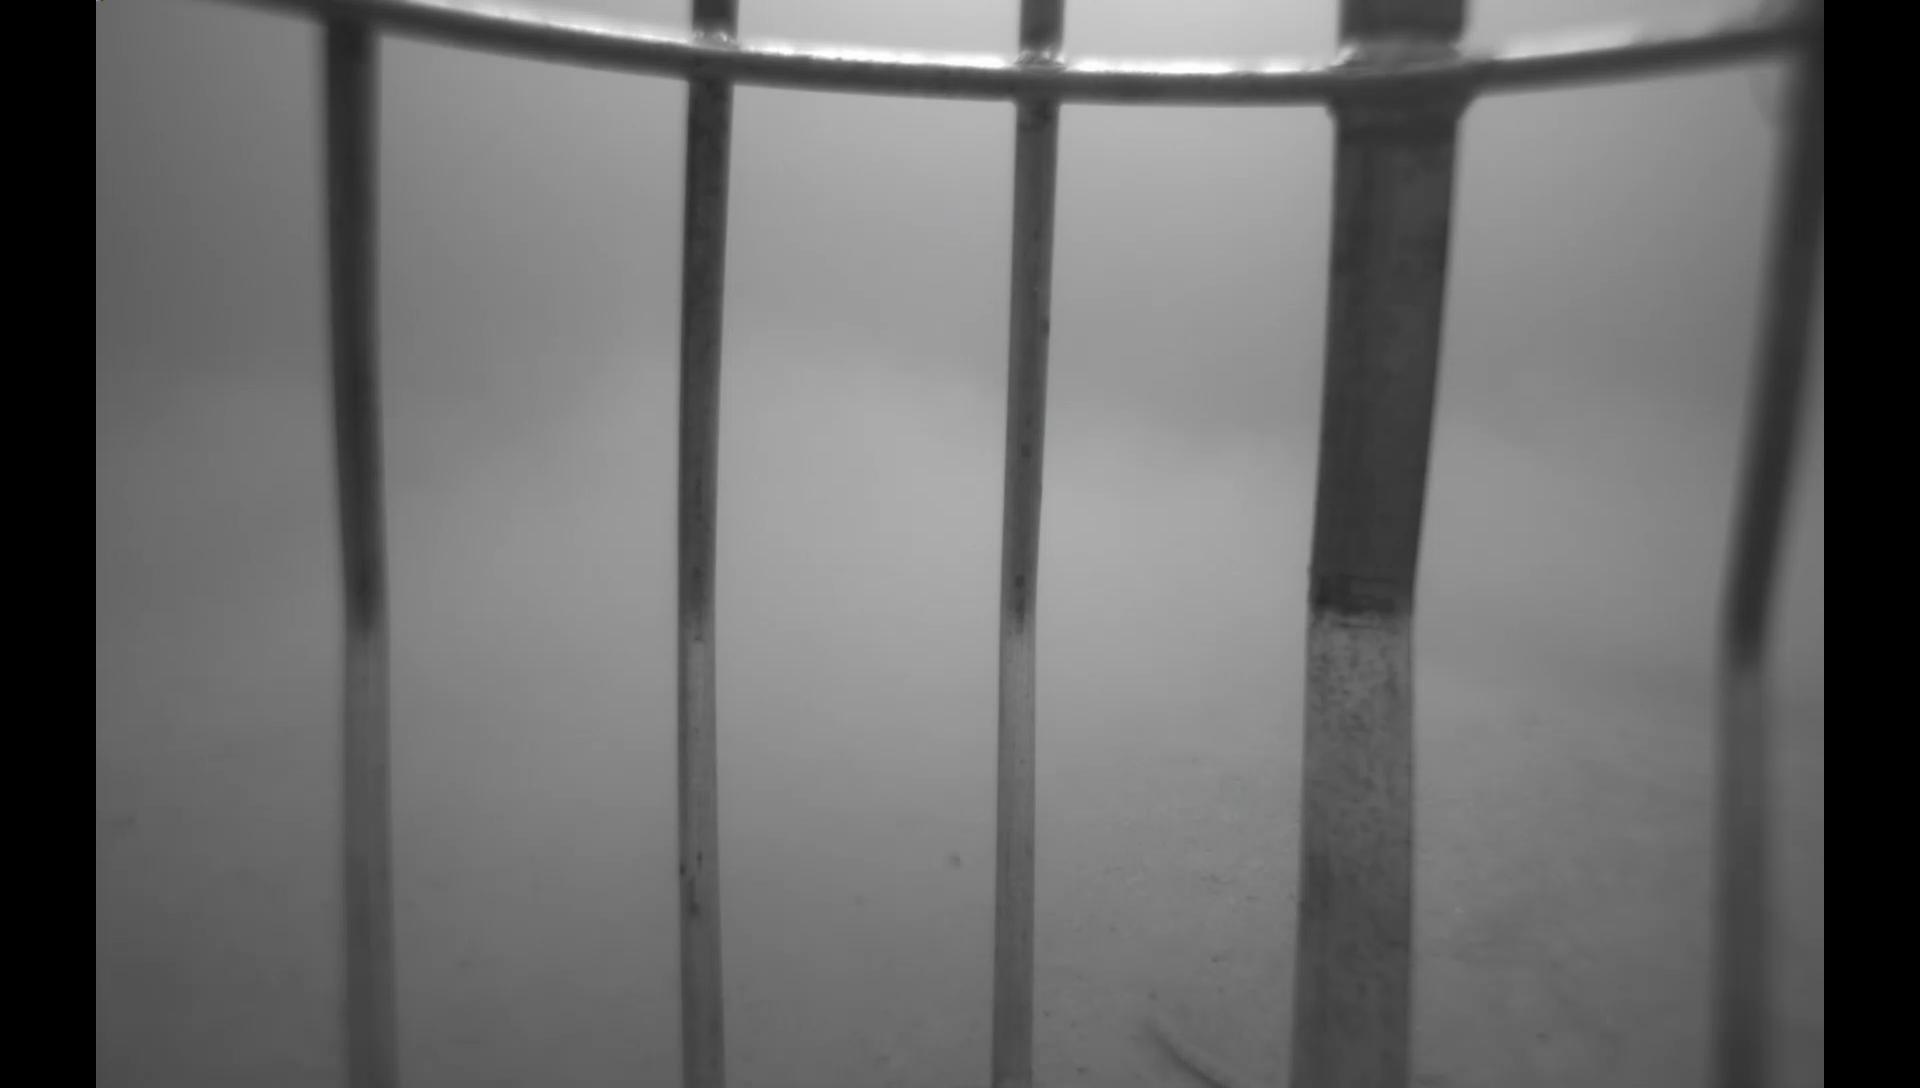OPHICHTHUSPUNCTICEPS-143150402: (1135, 985, 1263, 1087)
